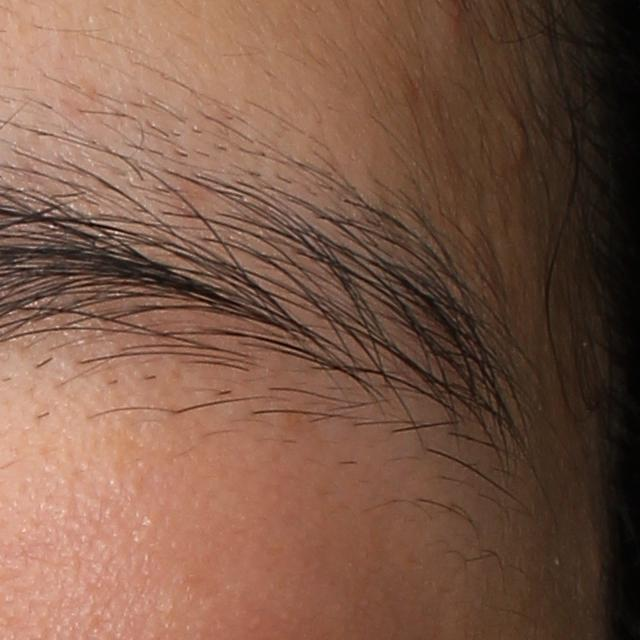papule: (506, 108, 534, 164)
